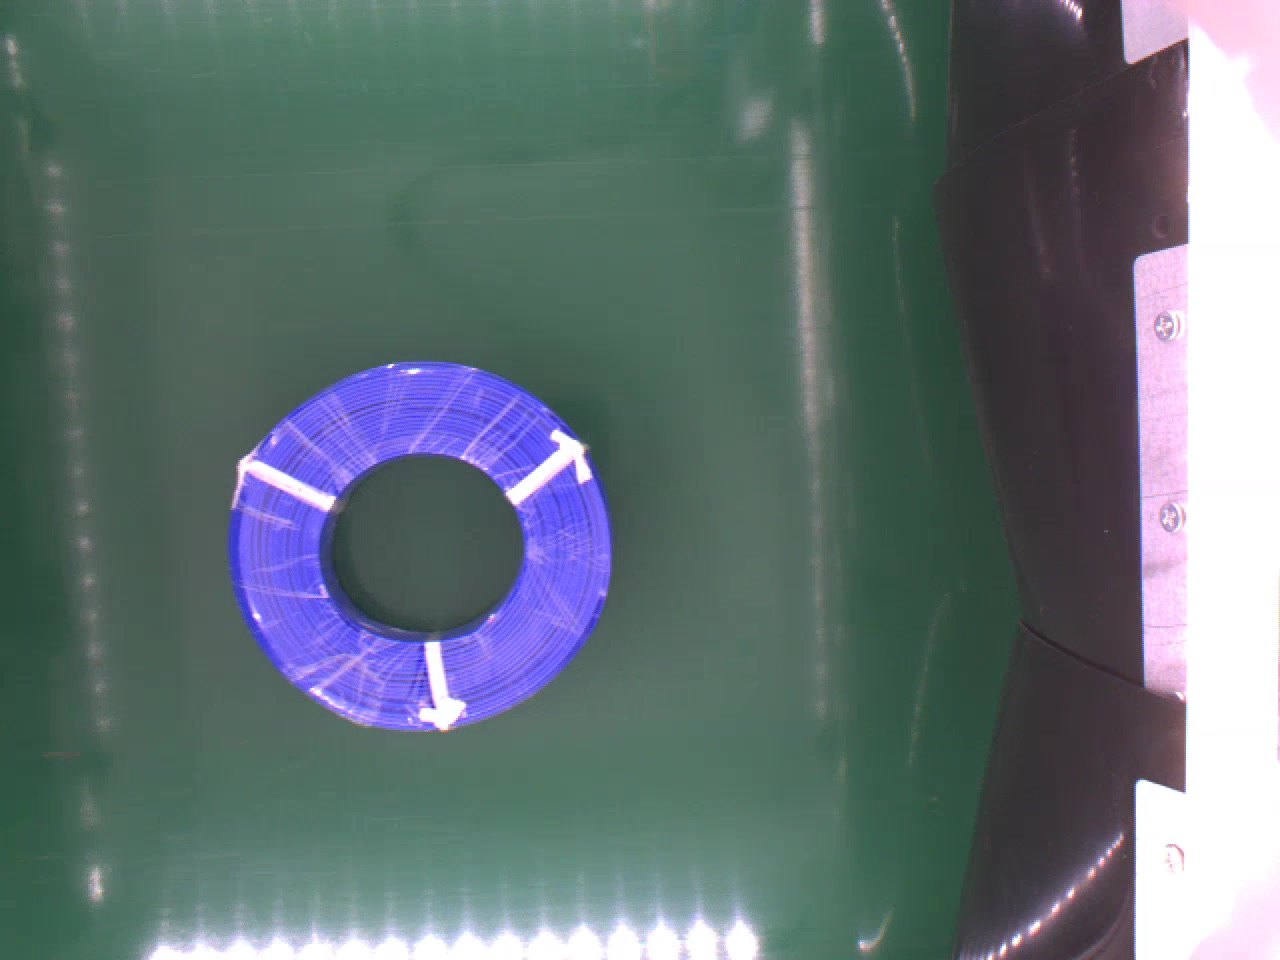blue: (229, 353, 616, 730)
